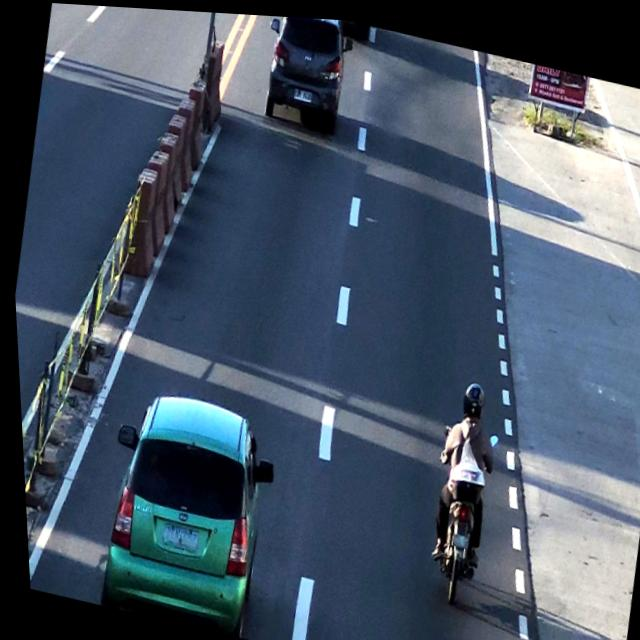Car: (89, 380, 282, 636), (251, 12, 360, 139)
License-Plate: (154, 515, 197, 559), (291, 79, 315, 102)
Motorcycle: (412, 369, 507, 604)
